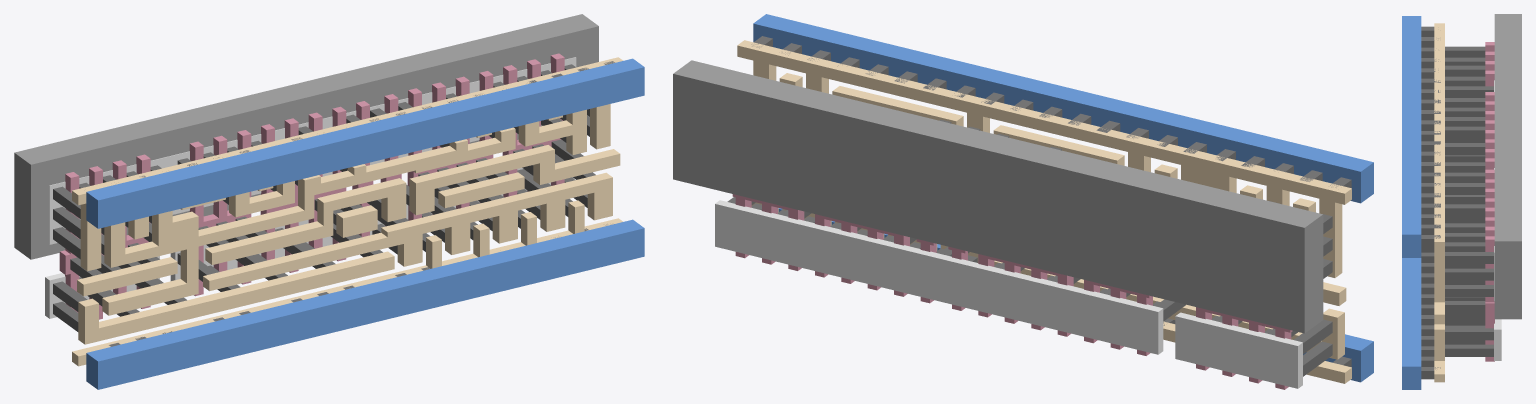
Rendered from sky130_fd_sc_hd__o221ai_4.gds.gltf.
The picture shows the model from 3 angles, left to right: view 1: azimuth 30°, elevation 25°; view 2: azimuth 150°, elevation 25°; view 3: azimuth 270°, elevation 25°; orthographic projection. The views are drawn at different scales.
Parts seen in each view (by area): view 1: sky130_fd_sc_hd__o221ai_4_li1, sky130_fd_sc_hd__o221ai_4_met1, sky130_fd_sc_hd__o221ai_4_nwell, sky130_fd_sc_hd__o221ai_4_licon, sky130_fd_sc_hd__o221ai_4_poly, sky130_fd_sc_hd__o221ai_4_diff, sky130_fd_sc_hd__o221ai_4_mcon; view 2: sky130_fd_sc_hd__o221ai_4_nwell, sky130_fd_sc_hd__o221ai_4_diff, sky130_fd_sc_hd__o221ai_4_li1, sky130_fd_sc_hd__o221ai_4_met1, sky130_fd_sc_hd__o221ai_4_poly, sky130_fd_sc_hd__o221ai_4_mcon, sky130_fd_sc_hd__o221ai_4_licon; view 3: sky130_fd_sc_hd__o221ai_4_licon, sky130_fd_sc_hd__o221ai_4_nwell, sky130_fd_sc_hd__o221ai_4_met1, sky130_fd_sc_hd__o221ai_4_mcon, sky130_fd_sc_hd__o221ai_4_li1, sky130_fd_sc_hd__o221ai_4_poly, sky130_fd_sc_hd__o221ai_4_diff.
Part boxes in pixels (bbox=[...]): sky130_fd_sc_hd__o221ai_4_li1: bbox=[72, 57, 622, 366]; sky130_fd_sc_hd__o221ai_4_met1: bbox=[86, 58, 644, 389]; sky130_fd_sc_hd__o221ai_4_nwell: bbox=[14, 14, 598, 259]; sky130_fd_sc_hd__o221ai_4_licon: bbox=[53, 64, 595, 331]; sky130_fd_sc_hd__o221ai_4_poly: bbox=[59, 53, 564, 319]; sky130_fd_sc_hd__o221ai_4_diff: bbox=[45, 57, 576, 318]; sky130_fd_sc_hd__o221ai_4_mcon: bbox=[109, 61, 614, 346]; sky130_fd_sc_hd__o221ai_4_nwell: bbox=[673, 60, 1323, 333]; sky130_fd_sc_hd__o221ai_4_diff: bbox=[715, 200, 1302, 388]; sky130_fd_sc_hd__o221ai_4_li1: bbox=[737, 40, 1351, 383]; sky130_fd_sc_hd__o221ai_4_met1: bbox=[753, 14, 1373, 382]; sky130_fd_sc_hd__o221ai_4_poly: bbox=[732, 194, 1292, 389]; sky130_fd_sc_hd__o221ai_4_mcon: bbox=[751, 36, 1351, 367]; sky130_fd_sc_hd__o221ai_4_licon: bbox=[727, 119, 1332, 376]; sky130_fd_sc_hd__o221ai_4_licon: bbox=[1445, 46, 1493, 356]; sky130_fd_sc_hd__o221ai_4_nwell: bbox=[1494, 14, 1521, 319]; sky130_fd_sc_hd__o221ai_4_met1: bbox=[1402, 16, 1421, 389]; sky130_fd_sc_hd__o221ai_4_mcon: bbox=[1421, 26, 1440, 379]; sky130_fd_sc_hd__o221ai_4_li1: bbox=[1434, 23, 1444, 382]; sky130_fd_sc_hd__o221ai_4_poly: bbox=[1485, 42, 1494, 361]; sky130_fd_sc_hd__o221ai_4_diff: bbox=[1494, 80, 1501, 360].
Size of the model in its own units: 10.04 by 3.2 by 2.24.
